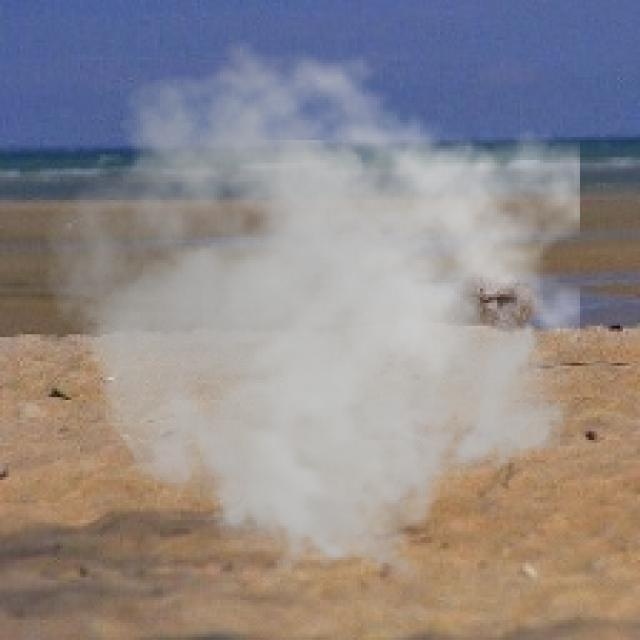Smoke: (43, 37, 580, 586)
